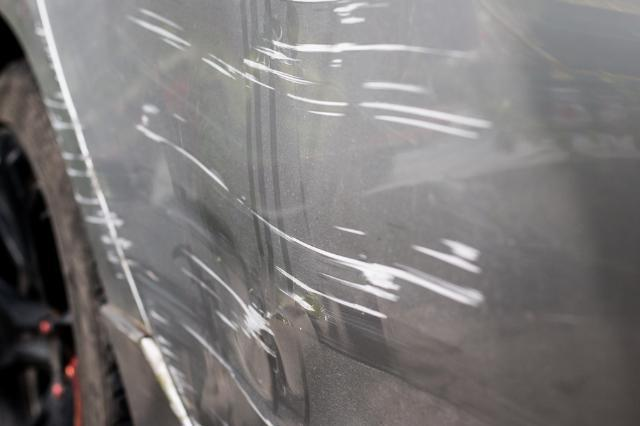scratch: (26, 0, 496, 426)
